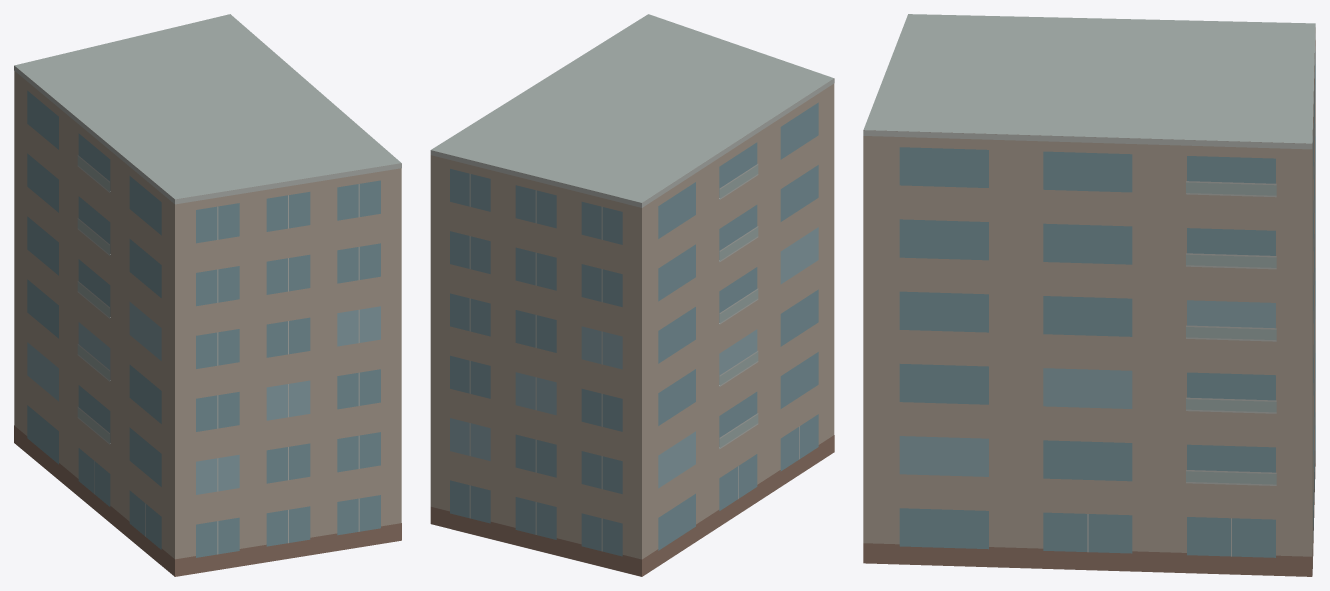
Rendered from survey-upis-32659136.glb.
3 renders of one model, left to right at view 1: azimuth 30°, elevation 25°; view 2: azimuth 150°, elevation 25°; view 3: azimuth 270°, elevation 25°, orthographic. The views are drawn at different scales.
Parts seen in each view (by area): view 1: survey-upis-32659136.tmp; view 2: survey-upis-32659136.tmp; view 3: survey-upis-32659136.tmp.
Boxes of the visible parts, box(x1,y1,x2,y2) form: survey-upis-32659136.tmp: box(14, 14, 401, 576); survey-upis-32659136.tmp: box(430, 14, 834, 576); survey-upis-32659136.tmp: box(863, 14, 1315, 576).
Bounding box in the file's own units: 11.69 × 18.2 × 17.23.
